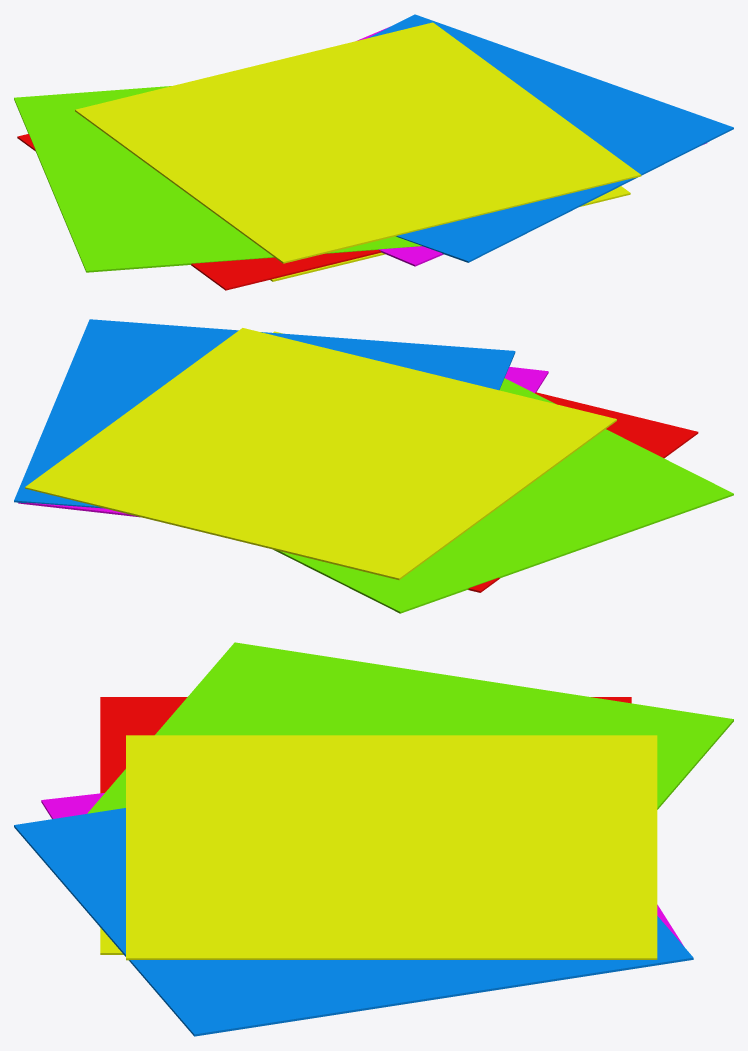
File: Sticky Notes.glb
The picture shows the model from 3 angles, top to bottom: view 1: azimuth 30°, elevation 25°; view 2: azimuth 150°, elevation 25°; view 3: azimuth 270°, elevation 25°; orthographic projection. The views are drawn at different scales.
Parts seen in each view (by area): view 1: Box010, Box008, Box009, Box012, Box007, Box011; view 2: Box010, Box008, Box009, Box012, Box007; view 3: Box010, Box008, Box009, Box012, Box007.
Part boxes in pixels (x1=…): Box010: x1=75, y1=22, x2=641, y2=263; Box008: x1=14, y1=86, x2=421, y2=272; Box009: x1=368, y1=14, x2=733, y2=262; Box012: x1=17, y1=134, x2=381, y2=290; Box007: x1=357, y1=26, x2=706, y2=266; Box011: x1=270, y1=186, x2=630, y2=281; Box010: x1=25, y1=328, x2=616, y2=580; Box008: x1=273, y1=378, x2=733, y2=613; Box009: x1=14, y1=319, x2=515, y2=508; Box012: x1=468, y1=392, x2=698, y2=592; Box007: x1=18, y1=367, x2=548, y2=517; Box010: x1=126, y1=735, x2=657, y2=960; Box008: x1=87, y1=642, x2=733, y2=813; Box009: x1=14, y1=808, x2=693, y2=1036; Box012: x1=100, y1=697, x2=631, y2=793; Box007: x1=41, y1=793, x2=683, y2=945.
Bounding box in the file's own units: 914410 × 10361 × 707320.
